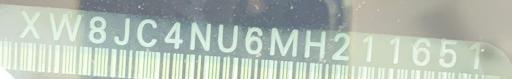letter: (46, 9, 82, 42), (267, 25, 299, 58), (187, 19, 213, 52), (215, 20, 239, 55), (303, 26, 327, 61), (17, 8, 43, 40), (162, 19, 184, 52), (329, 29, 351, 62), (410, 35, 432, 68), (437, 36, 459, 69), (135, 18, 159, 47), (86, 13, 108, 44), (243, 25, 265, 56), (466, 37, 482, 72), (360, 31, 376, 66), (386, 33, 402, 66), (113, 16, 131, 45)
